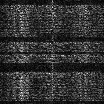wifi: (1, 5, 104, 36), (1, 71, 104, 100), (1, 41, 104, 52), (1, 54, 104, 62)
